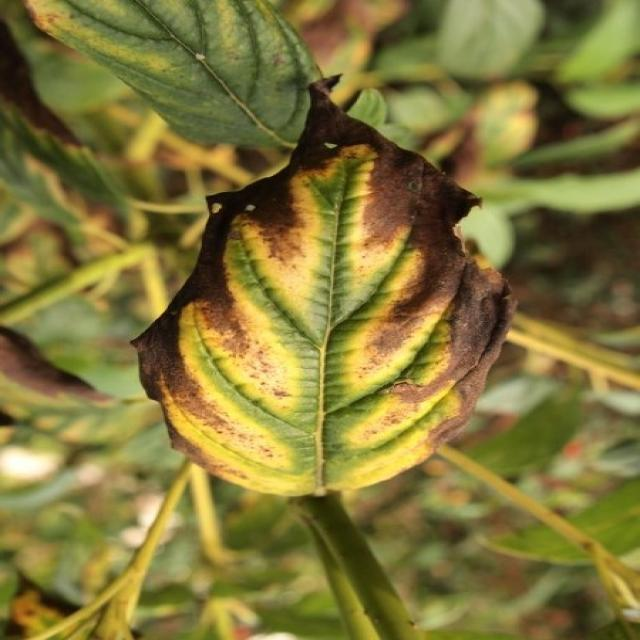Chlorosis: (55, 29, 593, 556)
